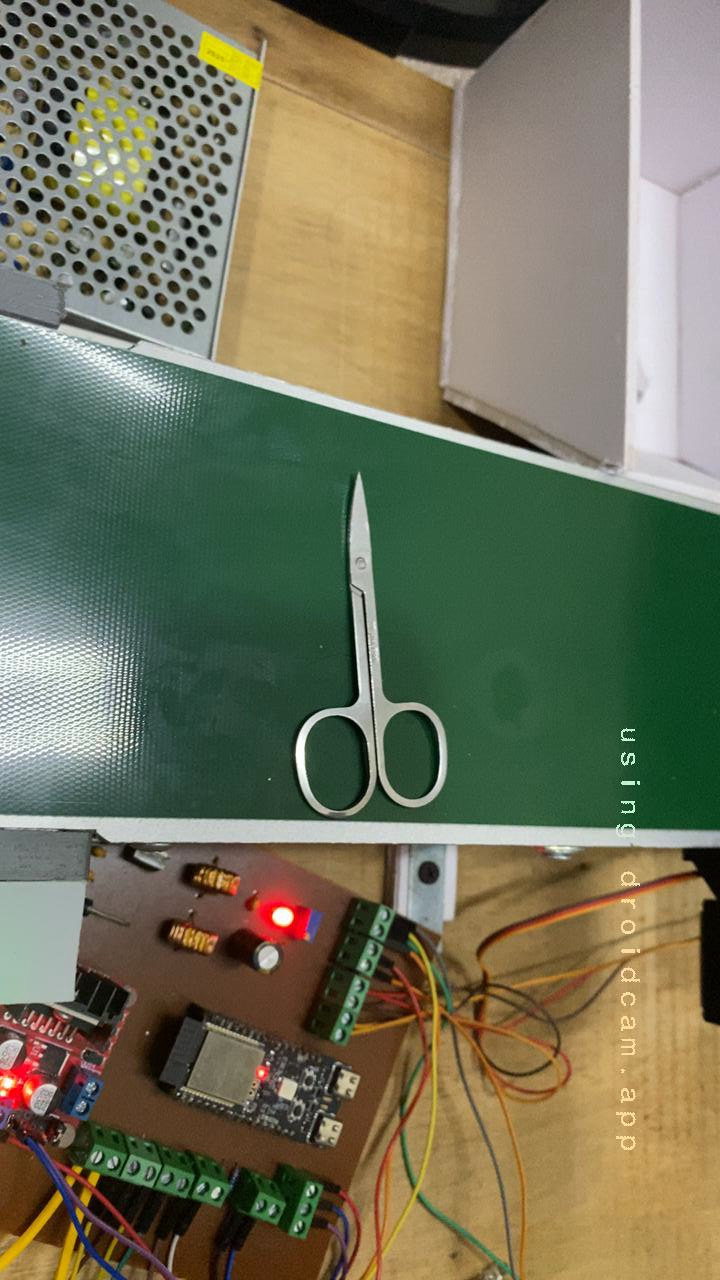scissor: (240, 455, 469, 828)
